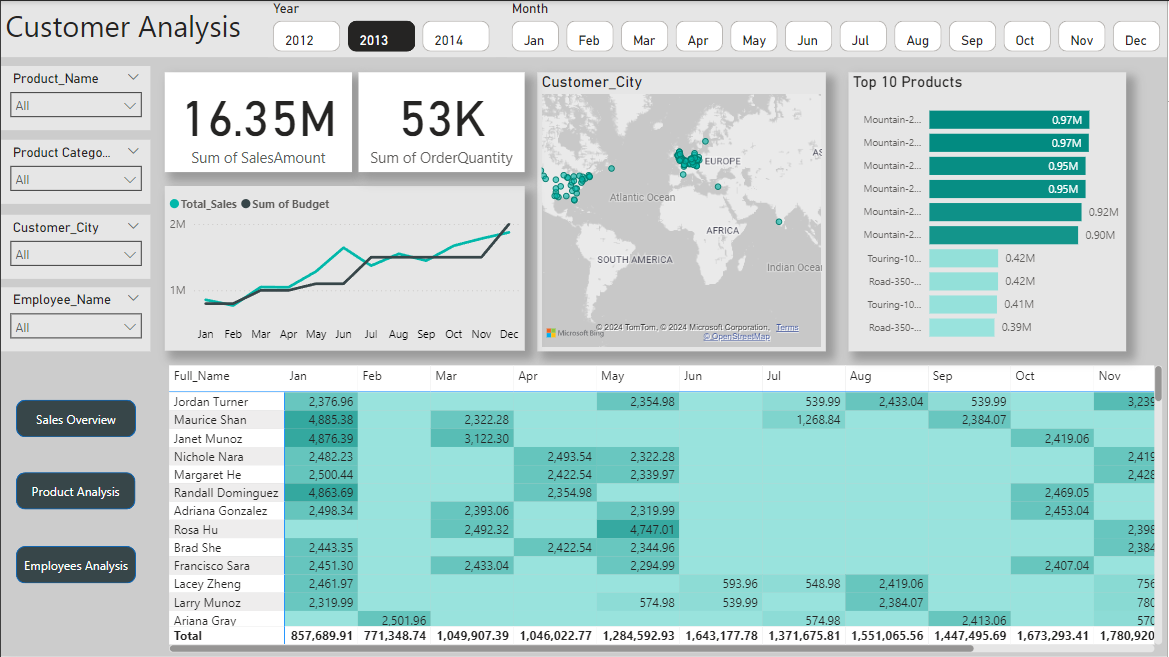

The dashboard page shown, as its layout file describes it:
{"tool":"powerbi","page":{"name":"Customer Analysis","canvas":[1280,720],"ordinal":2},"visuals":[{"type":"textbox","box":[0,0,1280,61.4],"z":0},{"type":"advancedSlicerVisual","fields":{"Values":["DIM_Date.Year"]},"box":[293.7,0,249.7,61.7],"z":1000},{"type":"advancedSlicerVisual","fields":{"Values":["Sorted_Months.Month"]},"box":[555.7,0,724.5,61.7],"z":2000},{"type":"slicer","fields":{"Values":["DIM_Products.Product_Name"]},"box":[0,71.4,164.3,70],"z":3000},{"type":"slicer","fields":{"Values":["DIM_Cusomers.Customer_City"]},"box":[0,234.3,164.3,70],"z":4000},{"type":"slicer","fields":{"Values":["DIM_Employees.Full_Name"]},"box":[0,314.3,164.3,70],"z":5000},{"type":"slicer","fields":{"Values":["DIM_Products.Category"]},"box":[0,152.9,164.3,70],"z":6000},{"type":"card","title":"Total Sales","fields":{"Values":["Sum(Fact_Internet_Sales.SalesAmount)"]},"box":[179.8,78.2,205.8,109.8],"z":7000},{"type":"map","fields":{"Category":["DIM_Cusomers.Customer_City"]},"box":[588.7,78.2,317,306],"z":8000},{"type":"lineChart","fields":{"Category":["Sorted_Months.Month"],"Y":["Fact_Internet_Sales.Total_Sales"],"Y2":["Sum(Budget.Budget)"]},"box":[179.8,203.1,395.2,181.1],"z":9000},{"type":"card","fields":{"Values":["Sum(Fact_Internet_Sales.OrderQuantity)"]},"box":[392.5,78.2,182.5,109.8],"z":10000},{"type":"pivotTable","fields":{"Columns":["Sorted_Months.Month"],"Values":["Fact_Internet_Sales.Total_Sales"],"Rows":["DIM_Cusomers.Full_Name"]},"box":[179.8,395.2,1100.5,325.2],"z":11000},{"type":"clusteredBarChart","title":"Top 10 Products","fields":{"Y":["Fact_Internet_Sales.Total_Sales"],"Category":["DIM_Products.Product_Name"]},"box":[930.4,78.2,304.6,306],"z":12000},{"type":"shape","box":[16.5,437.7,131.7,41.2],"z":13000},{"type":"shape","box":[16.5,598.3,131.7,41.2],"z":14000},{"type":"shape","box":[17,517.4,131.1,40.9],"z":15000}]}

Visuals, with their boxes in screenshot pixels (x1, y1, x2, y2), scaled from the page's 1280x720 canvas onto the 1169x657 screenshot:
textbox: l=0, t=0, r=1168, b=56
advancedSlicerVisual - DIM_Date.Year: l=268, t=0, r=496, b=56
advancedSlicerVisual - Sorted_Months.Month: l=508, t=0, r=1168, b=56
slicer - DIM_Products.Product_Name: l=0, t=65, r=150, b=129
slicer - DIM_Cusomers.Customer_City: l=0, t=214, r=150, b=278
slicer - DIM_Employees.Full_Name: l=0, t=287, r=150, b=351
slicer - DIM_Products.Category: l=0, t=140, r=150, b=203
"Total Sales" card: l=164, t=71, r=352, b=172
map - DIM_Cusomers.Customer_City: l=538, t=71, r=827, b=351
lineChart - Sorted_Months.Month x Fact_Internet_Sales.Total_Sales: l=164, t=185, r=525, b=351
card - Sum(Fact_Internet_Sales.OrderQuantity): l=358, t=71, r=525, b=172
pivotTable - Sorted_Months.Month x Fact_Internet_Sales.Total_Sales: l=164, t=361, r=1168, b=656
"Top 10 Products" clusteredBarChart: l=850, t=71, r=1128, b=351
shape: l=15, t=399, r=135, b=437
shape: l=15, t=546, r=135, b=584
shape: l=16, t=472, r=135, b=509
